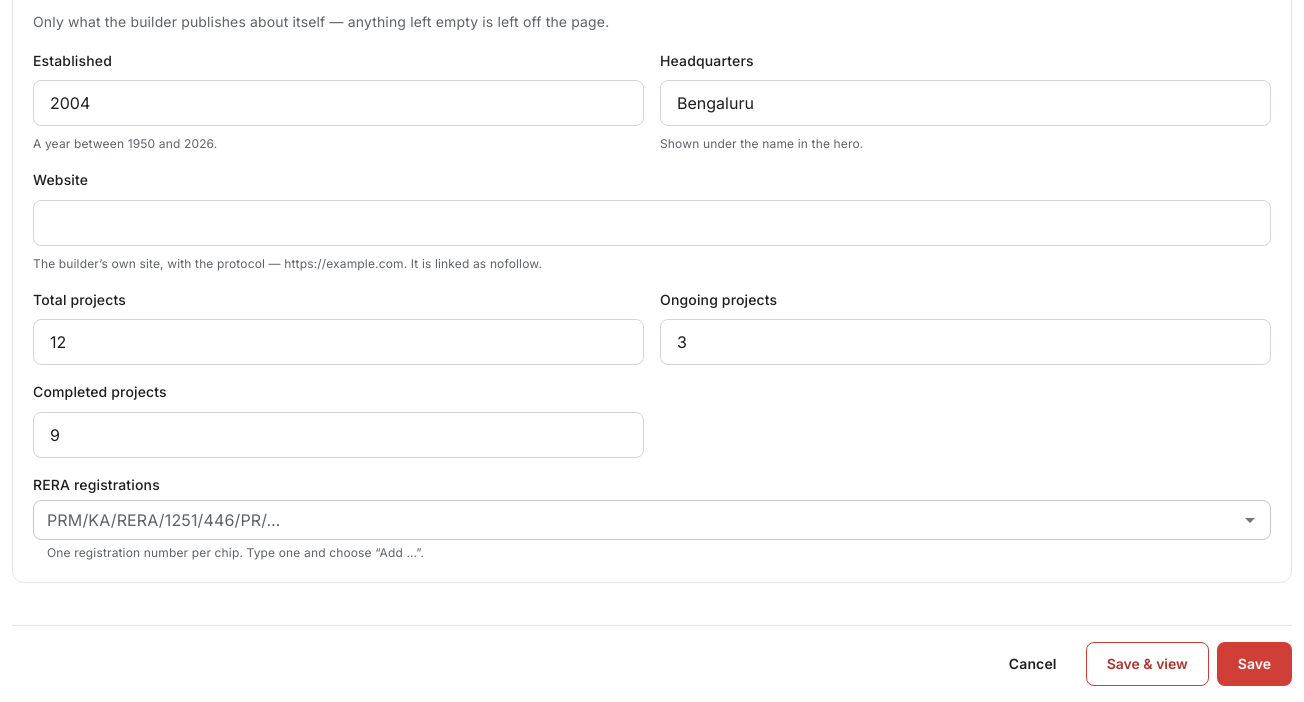
it: DeveloperFormPage (QA-60) › passes by the counts warning to the field that stops the save
(page scrolled)
Ongoing + completed over the total: a warning, not a refusal…
Replace the text in the number field labelled "Total projects" with "5". click: point(338, 342)
box: [33,319,644,365]
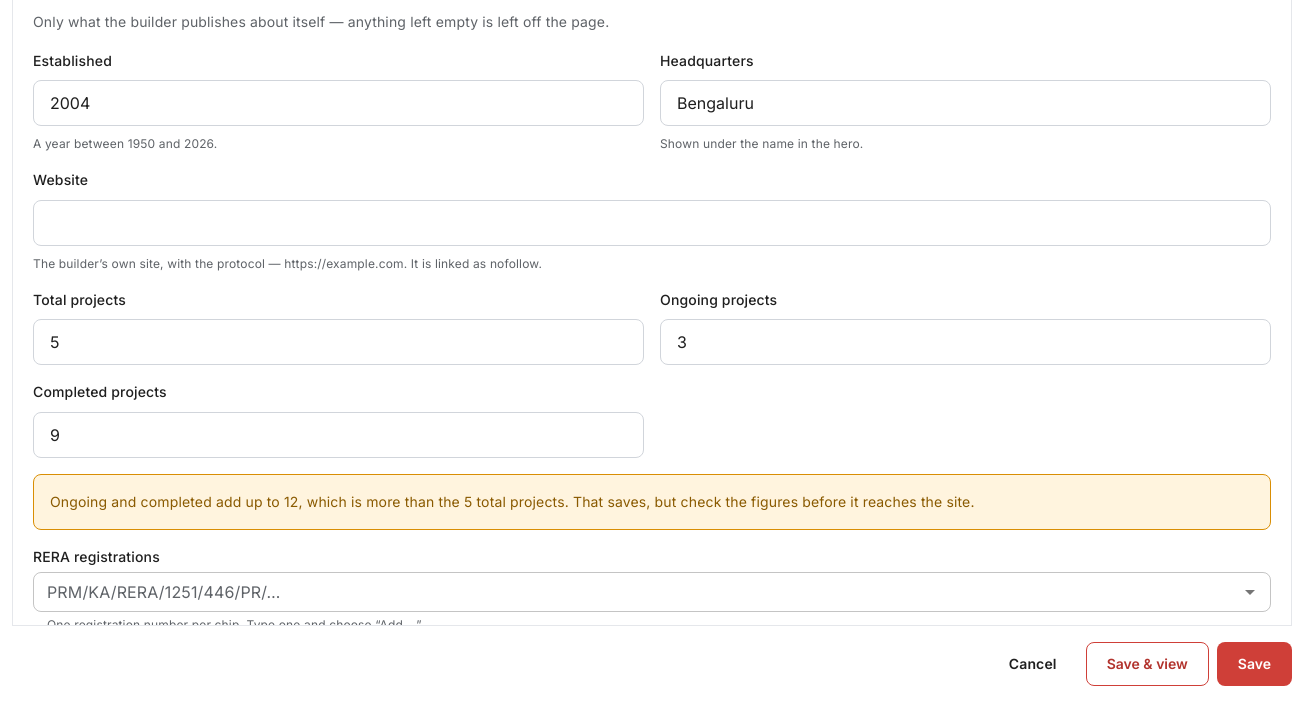
…and a website without its protocol, which is one.
Type "www.example.com" into the field labelled "Website". click: point(652, 223)
box: [33,200,1271,246]
(page scrolled)
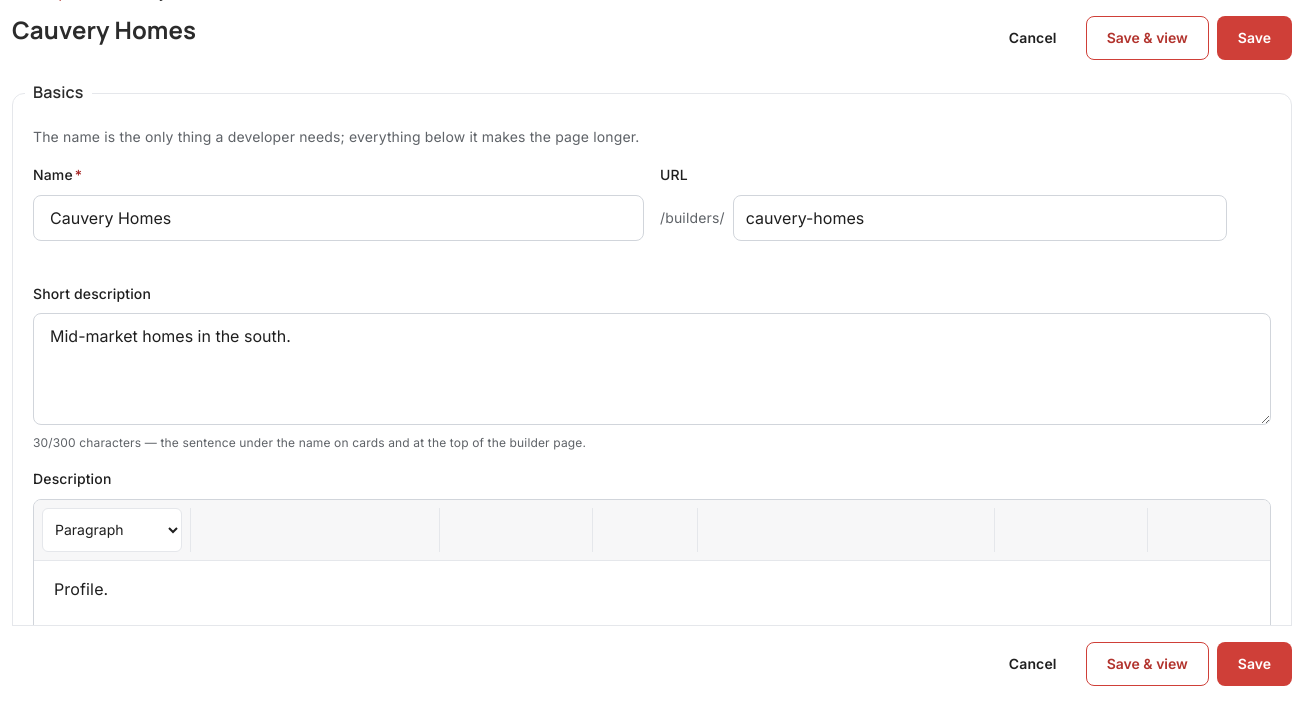
Click the 1st button "Save". click: point(1254, 38)
box: [1217,16,1292,60]
(page scrolled)
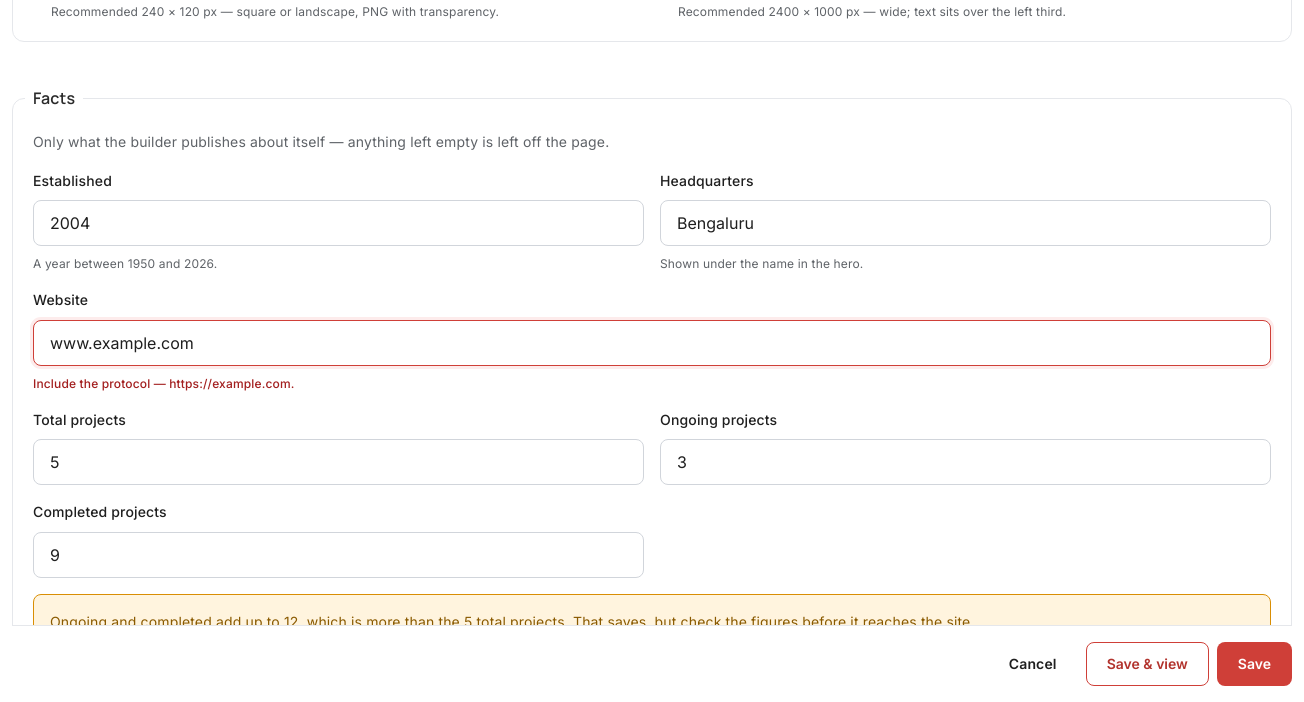
Expected: the text "Include the protocol — https://example.com." is shown, [33,376,294,391]
